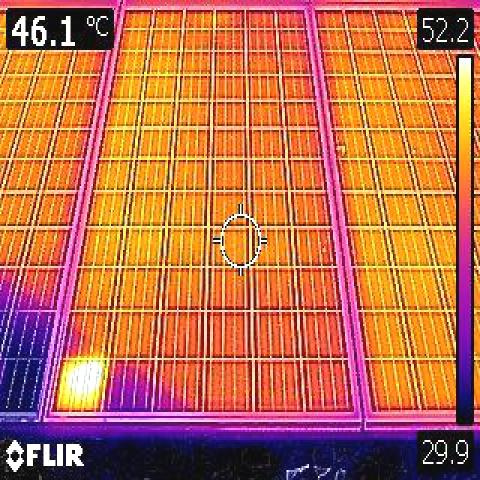fault: (59, 356, 105, 413)
